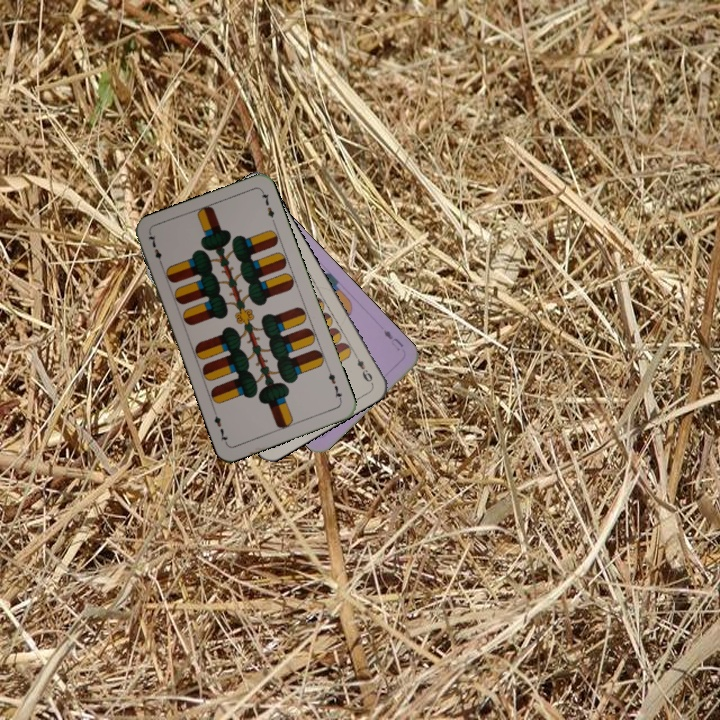E7: (144, 230, 166, 269), (324, 365, 345, 404)
E9: (349, 349, 375, 386)
EU: (379, 325, 406, 353)
